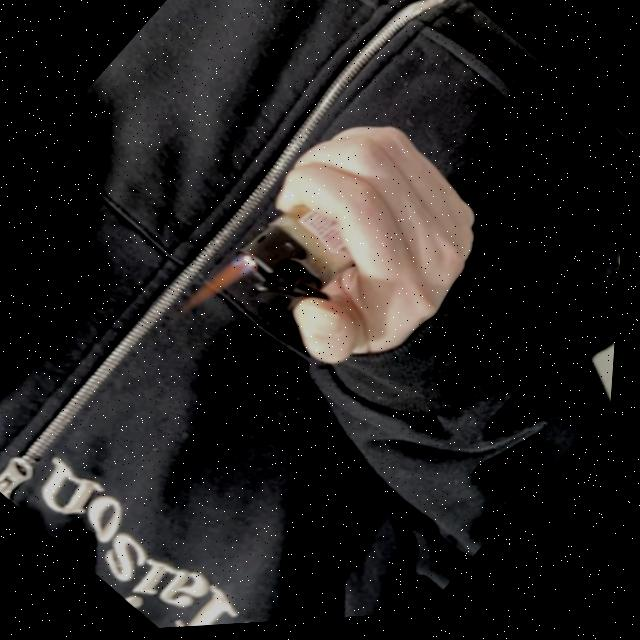Fire: (184, 250, 259, 331)
